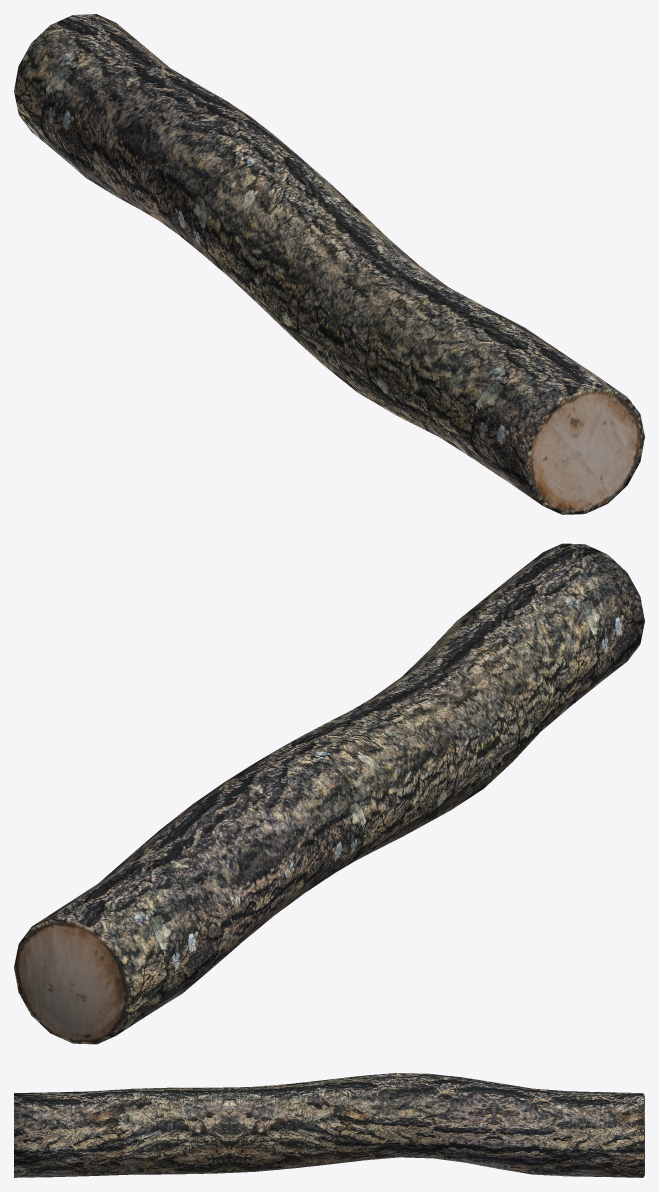
The model's file is log2.fbx.
3 views of the same model, one above another, from view 1: azimuth 30°, elevation 25°; view 2: azimuth 150°, elevation 25°; view 3: azimuth 270°, elevation 25° (orthographic). The views are drawn at different scales.
Visible parts, largest first — view 1: Log06; view 2: Log06; view 3: Log06.
Boxes of the visible parts, <box> form: Log06: <box>14,14,644,514</box>; Log06: <box>14,543,644,1044</box>; Log06: <box>14,1073,644,1177</box>.
Bounding box in the file's own units: 1.65 × 10.42 × 1.69.
Materials: 1 (1 with a texture image).
